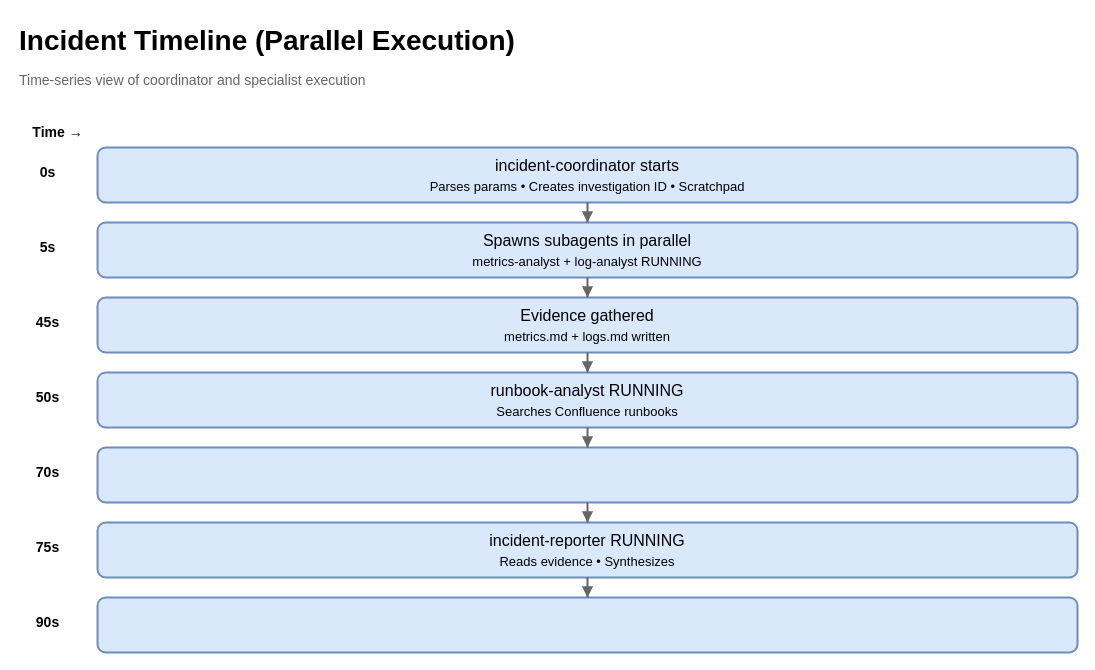
The diagram is 1095 pixels wide and 670 high, and some of its shapes have lost their labels. Here are the shapes that lost their labels. From the top down, the centre of each, then its label:
the point at 587,474: runbook-analyst COMPLETE runbook.md written
the point at 587,624: incident-reporter COMPLETE final-report.md written
